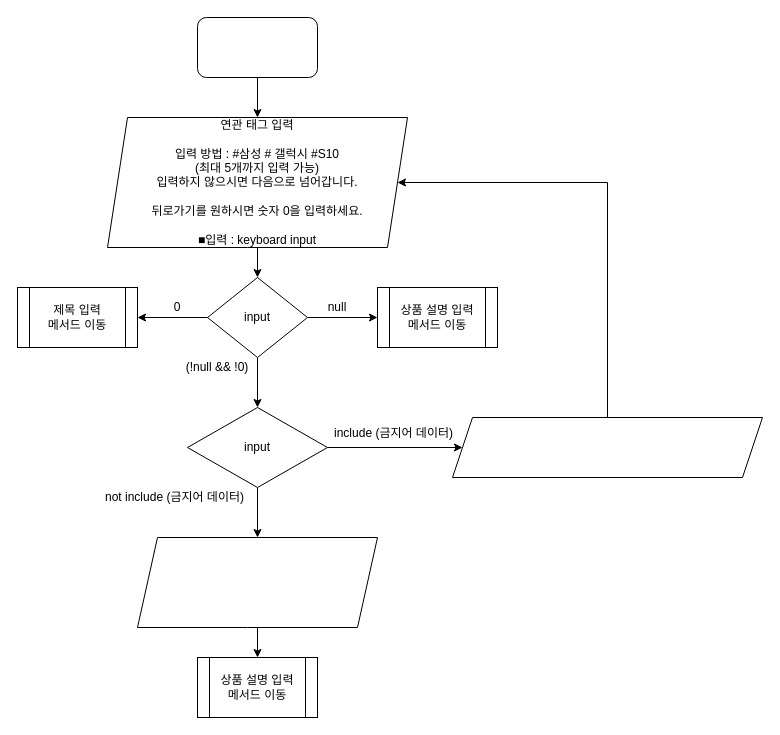
This 780x735 diagram has some shape labels left out. The shapes that lost their labels are listed below. From the top down, each one's centre as x and y in pixels, then its label:
At (x=257, y=47): "연관 태그 입력 메서드 진입".
At (x=607, y=447): "연관 태그에 금지어 (금지어데이터) 입력되었습니다. 다시 입력해주세요.".
At (x=257, y=582): "hashtag = input 연관 태그에 hashtag 입력되었습니다. 계속하시려면 엔터를 눌러주세요.".
